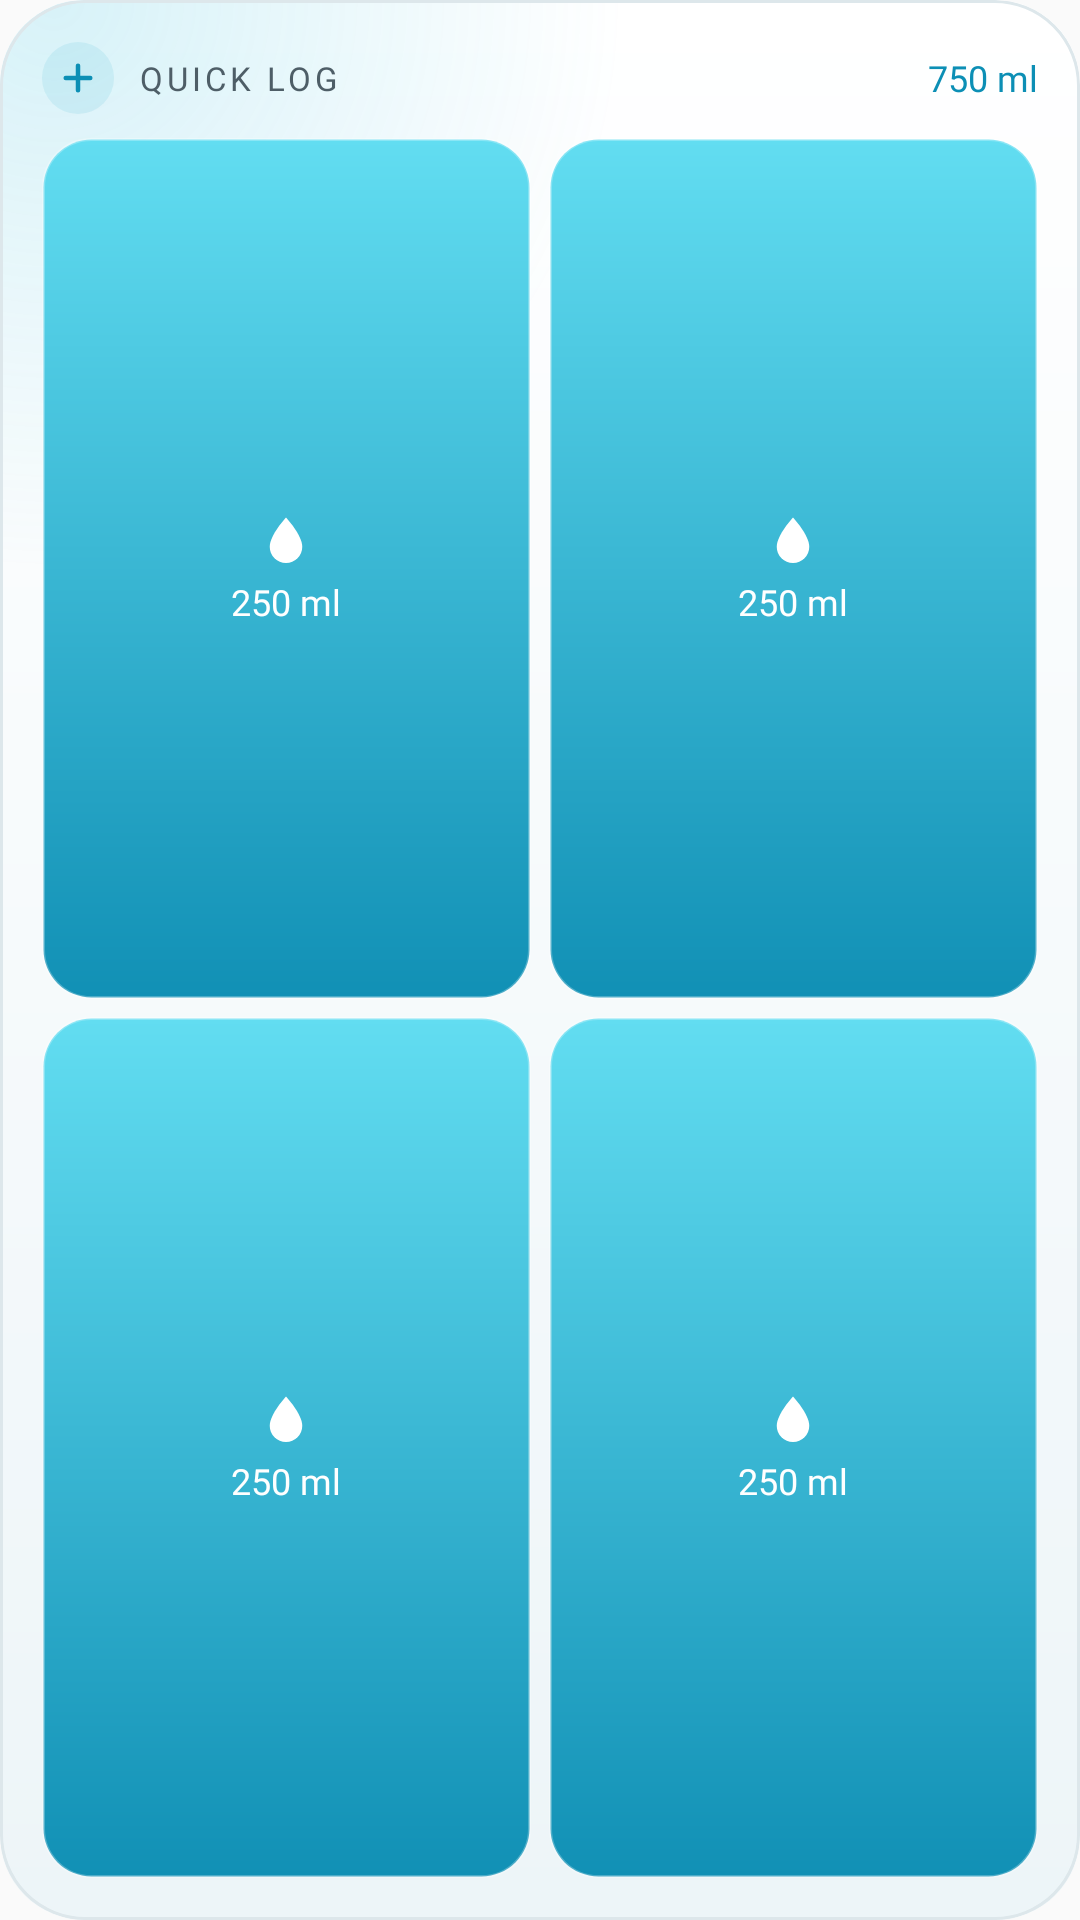

Icon click points for this 1080*1920 phone screenshot, format (x=x, y=y):
widget drop: (x=286, y=540), (x=793, y=540), (x=286, y=1419), (x=793, y=1419)
widget plus: (x=78, y=78)
